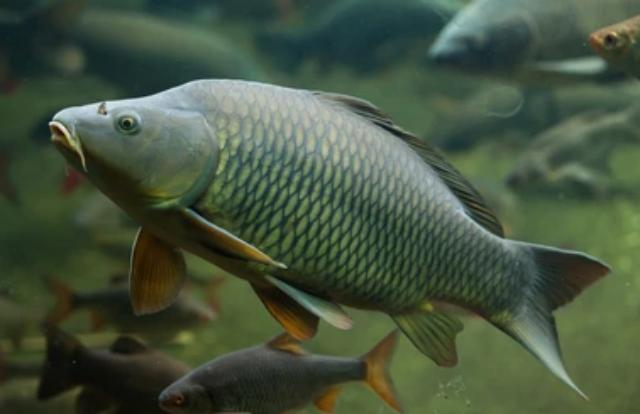Mulut: (32, 98, 94, 170)
Sirip Anal: (378, 300, 474, 374)
Sirip Dada: (120, 196, 294, 324)
Sirip Ekor: (507, 227, 613, 405)
Sirip Perut: (246, 268, 352, 343)
Sirip Punggung: (323, 80, 514, 246)
